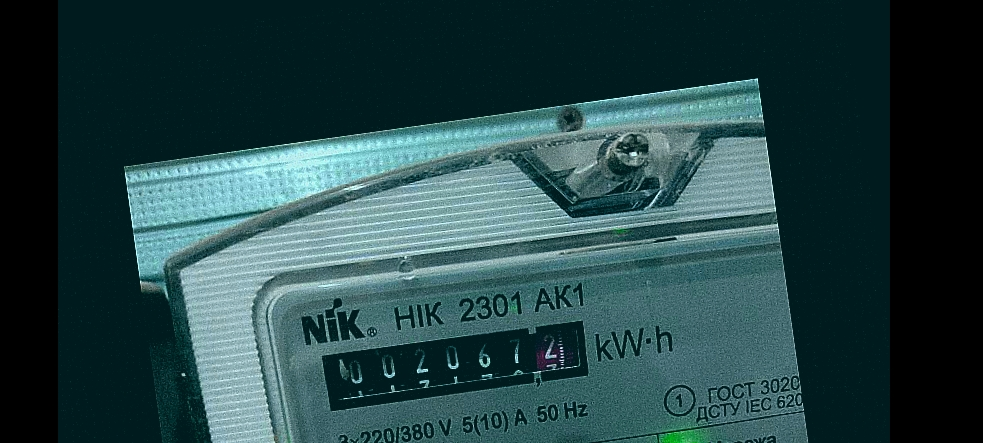0: (345, 355, 366, 387), (440, 340, 462, 370), (378, 349, 399, 380)
2: (539, 329, 561, 361), (411, 344, 432, 375)
6: (473, 338, 495, 370)
7: (506, 334, 526, 366)
screen: (306, 304, 607, 425)
